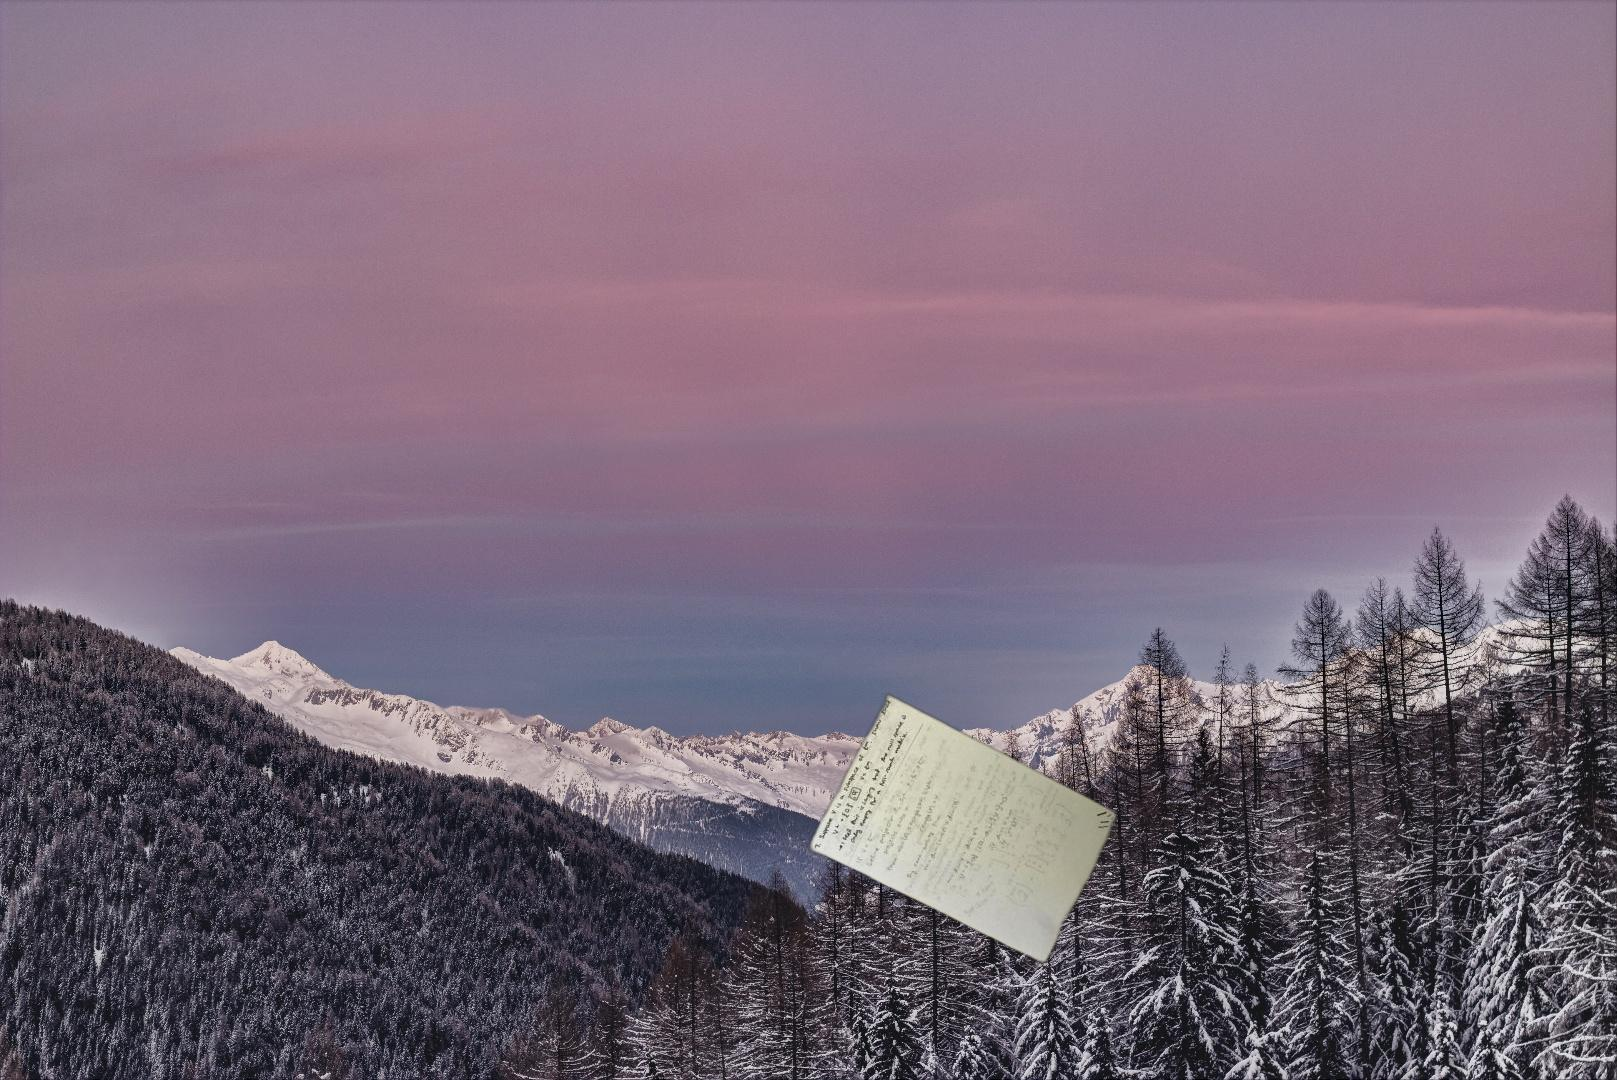paper: (802, 691, 1122, 969)
